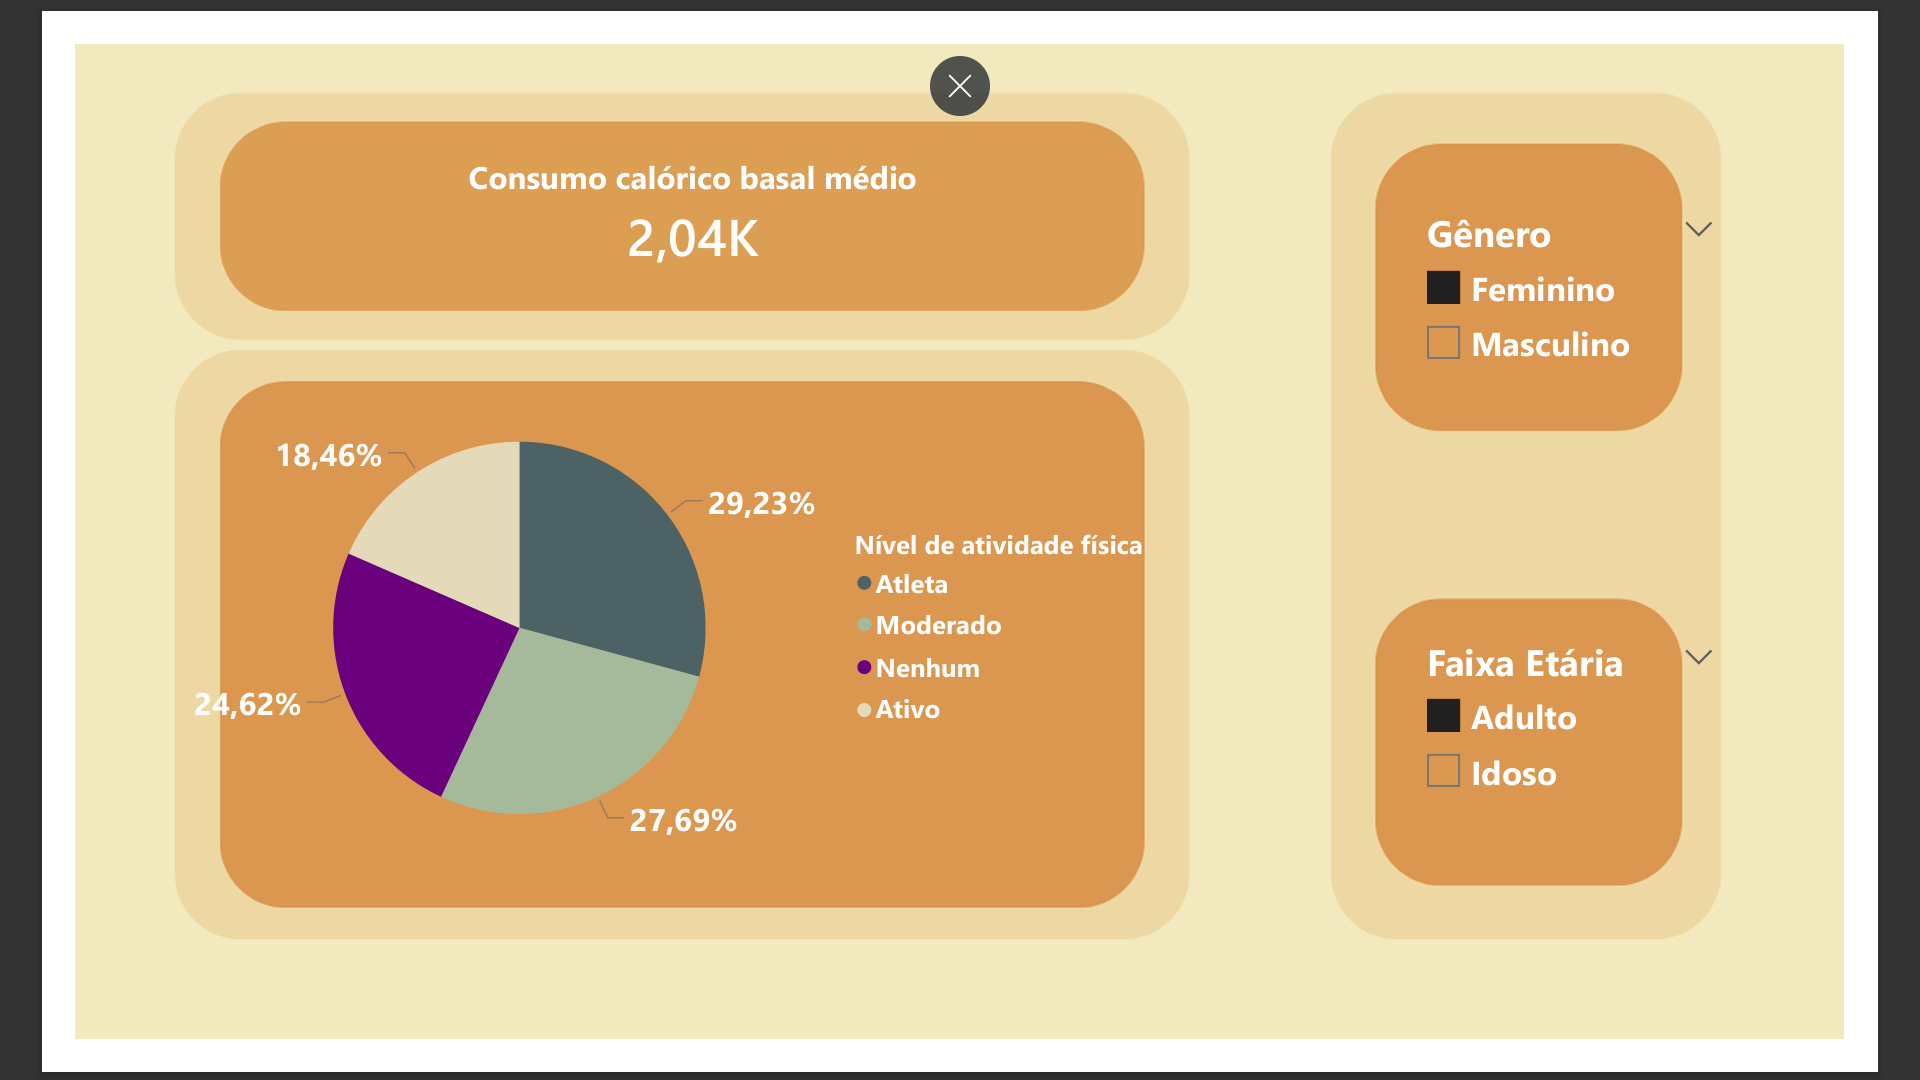

Layout of this report page (visuals, bound fields, positions):
{"tool":"powerbi","page":{"name":"Feminino + Adulto","canvas":[1280,720],"ordinal":3},"visuals":[{"type":"pieChart","fields":{"Category":["Personal_DATA.Nível de atividade física"],"Y":["CountNonNull(Personal_DATA.ID_Entrevistado)"]},"box":[74.1,227.8,720.4,389.7],"z":0},{"type":"cardVisual","fields":{"Data":["Avg(Formula_DATA.C. C. D. Basal)"]},"box":[138.6,43.9,616.1,153.7],"z":1000},{"type":"slicer","fields":{"Values":["Personal_DATA.Gênero"]},"box":[964.7,112.5,233.3,229.2],"z":2000},{"type":"slicer","fields":{"Values":["Personal_DATA.Faixa Etária"]},"box":[964.7,422.6,233.3,229.2],"z":3000}]}

Visuals, with their boxes in screenshot pixels (x1, y1, x2, y2), scaled from the page's 1280x720 canvas onto the 1920x1080 screenshot:
pieChart - Personal_DATA.Nível de atividade física x CountNonNull(Personal_DATA.ID_Entrevistado): bbox=[111, 342, 1192, 926]
cardVisual - Avg(Formula_DATA.C. C. D. Basal): bbox=[208, 66, 1132, 296]
slicer - Personal_DATA.Gênero: bbox=[1447, 169, 1797, 513]
slicer - Personal_DATA.Faixa Etária: bbox=[1447, 634, 1797, 978]
